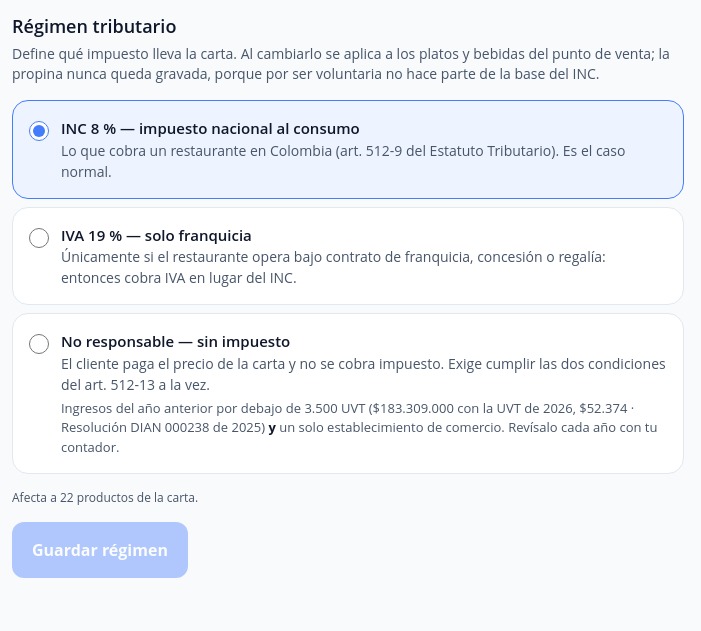
Test: shows why the change was refused
Click the radio button labelled "No responsable": point(39, 344) x1=29 y1=334 x2=49 y2=354
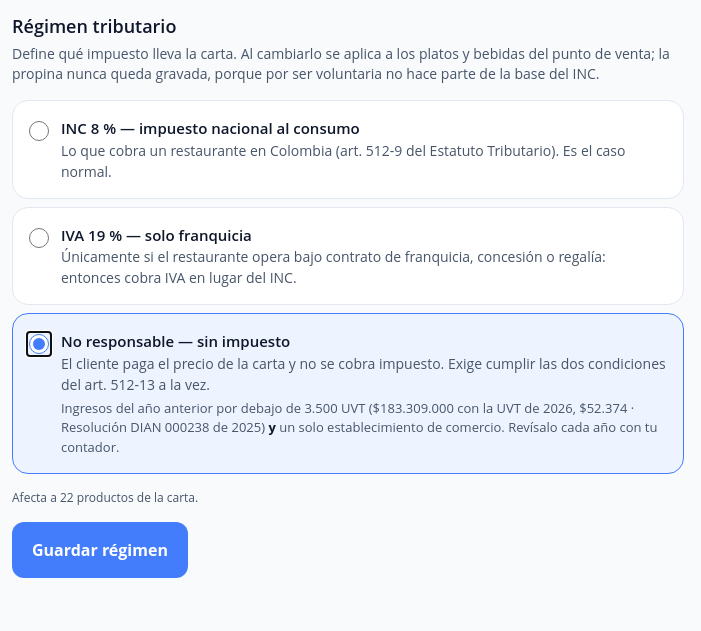
Click the button "Guardar régimen": point(100, 550) x1=12 y1=522 x2=188 y2=578
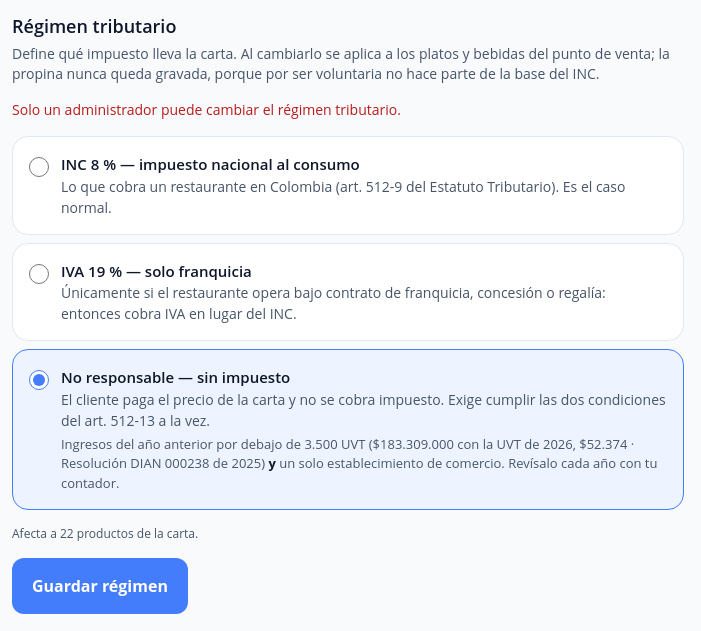
Check: the message shows "Solo un administrador", box x1=12 y1=100 x2=401 y2=119
